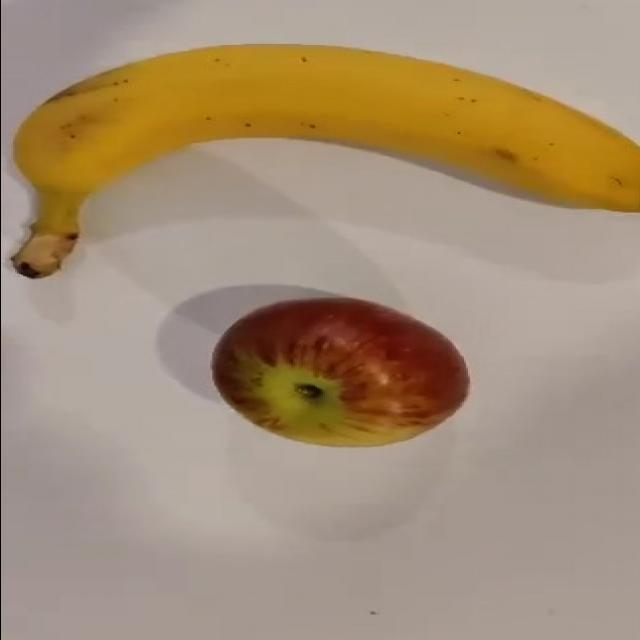Apple: (210, 295, 470, 448)
Banana: (10, 41, 639, 278)
